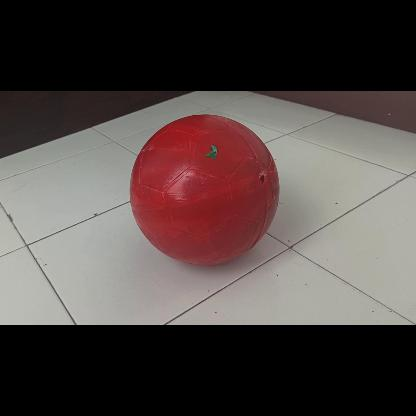red_ball: (129, 115, 279, 265)
